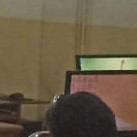monitor: (65, 70, 137, 137), (75, 54, 137, 72)
